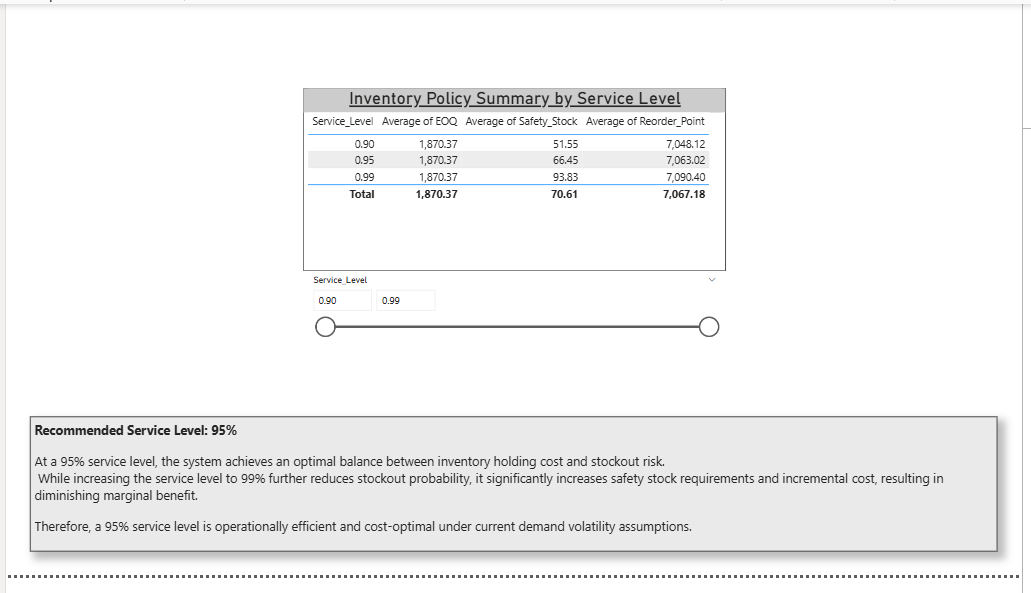

Layout of this report page (visuals, bound fields, positions):
{"tool":"powerbi","page":{"name":"Page 4","canvas":[1280,720],"ordinal":3},"visuals":[{"type":"tableEx","title":"Inventory Policy Summary by Service Level","fields":{"Values":["inventory_decision_output_(NoteBook3).Service_Level","Avg(inventory_decision_output_(NoteBook3).EOQ)","Avg(inventory_decision_output_(NoteBook3).Safety_Stock)","Avg(inventory_decision_output_(NoteBook3).Reorder_Point)"]},"box":[374.2,105.8,532.9,230.6],"z":0},{"type":"slicer","fields":{"Values":["inventory_decision_output_(NoteBook3).Service_Level"]},"box":[374.2,336.4,532.9,126.6],"z":1000},{"type":"textbox","box":[30.2,519.7,1218.9,170.1],"z":2000}]}

Visuals, with their boxes in screenshot pixels (x1, y1, x2, y2), scaled from the page's 1280x720 canvas onto the 1031x593 screenshot:
"Inventory Policy Summary by Service Level" tableEx: <bbox>301, 87, 731, 277</bbox>
slicer - inventory_decision_output_(NoteBook3).Service_Level: <bbox>301, 277, 731, 381</bbox>
textbox: <bbox>24, 428, 1006, 568</bbox>
